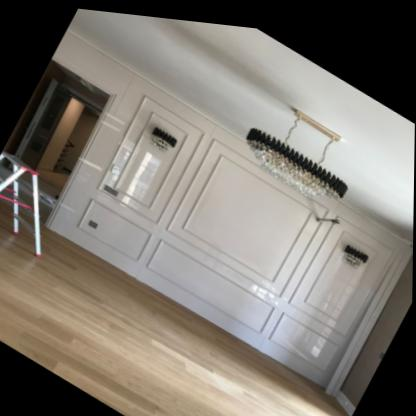Futec frame: (139, 121, 341, 347), (260, 189, 411, 389), (70, 79, 216, 274)
Wooden floor: (0, 199, 352, 416)
